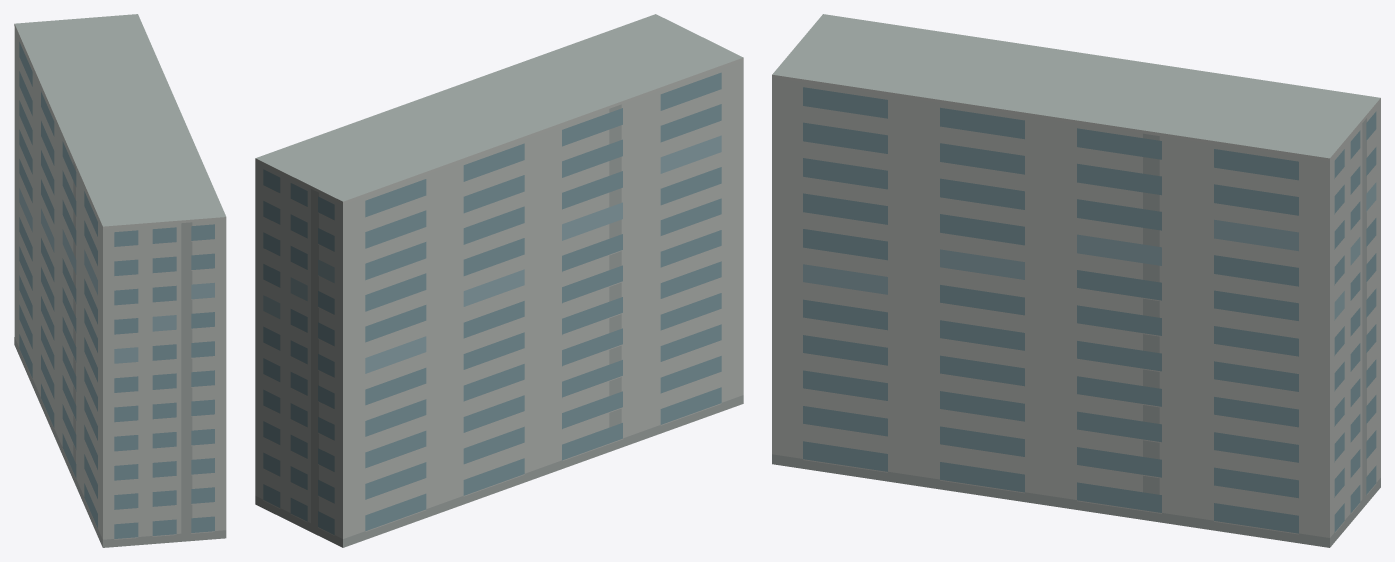
The model's file is residential-325b5a13-c1ed-43a6-aeac-ddf72a1b719b.glb.
3 renders of one model, left to right at view 1: azimuth 30°, elevation 25°; view 2: azimuth 150°, elevation 25°; view 3: azimuth 270°, elevation 25°, orthographic. The views are drawn at different scales.
Visible parts, largest first — view 1: residential-325b5a13-c1ed-43a6-aeac-ddf72a1b719b.tmp; view 2: residential-325b5a13-c1ed-43a6-aeac-ddf72a1b719b.tmp; view 3: residential-325b5a13-c1ed-43a6-aeac-ddf72a1b719b.tmp.
Part boxes in pixels (box(x1,y1,x2,y2)): residential-325b5a13-c1ed-43a6-aeac-ddf72a1b719b.tmp: box(14, 14, 226, 547); residential-325b5a13-c1ed-43a6-aeac-ddf72a1b719b.tmp: box(255, 14, 743, 547); residential-325b5a13-c1ed-43a6-aeac-ddf72a1b719b.tmp: box(772, 14, 1380, 547).
Bounding box in the file's own units: 23.07 × 29 × 41.09.
